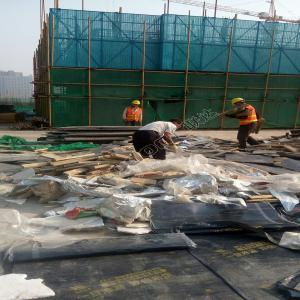none: (169, 117, 184, 130)
yellow: (231, 98, 247, 108), (131, 101, 143, 109)
